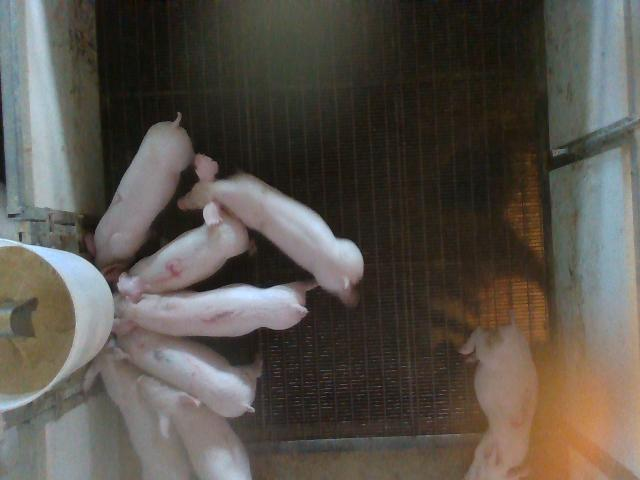pig-1: (112, 274, 316, 336)
pig-3: (460, 320, 538, 478)
pig-4: (129, 215, 250, 293)
